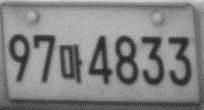3: (166, 35, 192, 86), (140, 35, 165, 85)
4: (86, 34, 113, 85)
7: (32, 33, 55, 83)
8: (113, 34, 140, 86)
9: (7, 32, 31, 82)
마: (59, 43, 83, 83)
